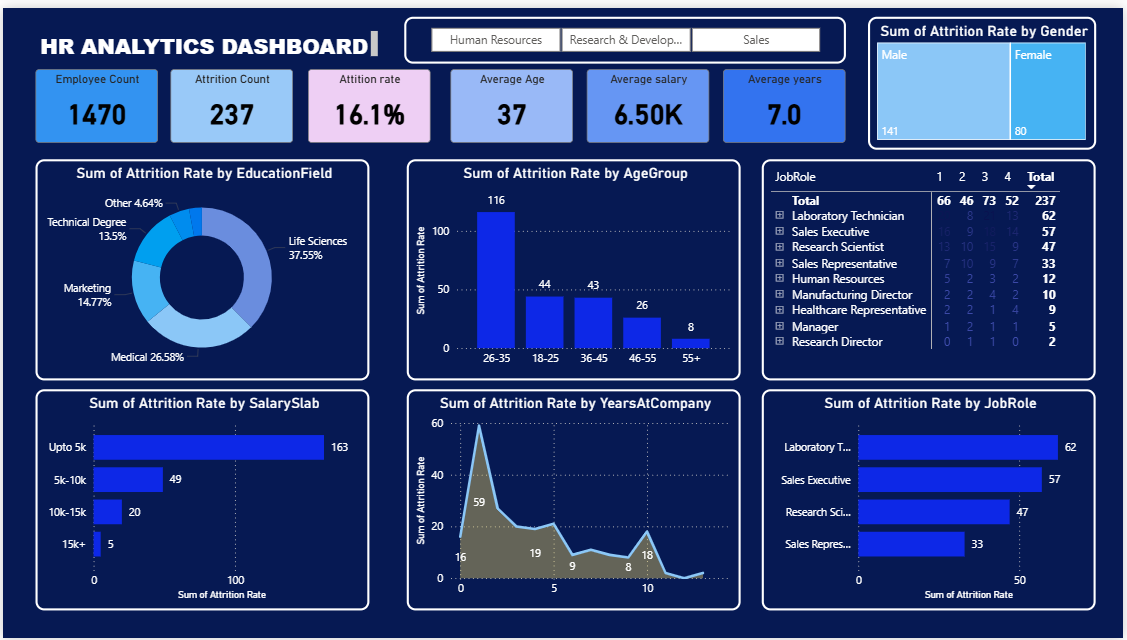

The page's visual inventory and layout, read from the dashboard file:
{"tool":"powerbi","page":{"name":"Page 1","canvas":[1280,720],"ordinal":0},"visuals":[{"type":"card","title":" Employee Count","fields":{"Values":["Count(HR_Analytics.EmpID)"]},"box":[37,70,140,83.7],"z":0},{"type":"card","title":"Attrition Count","fields":{"Values":["Sum(HR_Analytics.Attrition Rate)"]},"box":[190.7,70,140,83.7],"z":1000},{"type":"card","title":"Attition rate","fields":{"Values":["HR_Analytics.Attrition Percent"]},"box":[348.5,70,140,83.7],"z":2000},{"type":"card","title":"Average Age","fields":{"Values":["Avg(HR_Analytics.Age)"]},"box":[511.8,70,140,83.7],"z":3000},{"type":"card","title":"Average salary","fields":{"Values":["Avg(HR_Analytics.MonthlyIncome)"]},"box":[666.9,70,140,83.7],"z":4000},{"type":"card","title":"Average years","fields":{"Values":["Avg(HR_Analytics.YearsAtCompany)"]},"box":[823.3,70,140,83.7],"z":5000},{"type":"donutChart","fields":{"Category":["HR_Analytics.EducationField"],"Y":["Sum(HR_Analytics.Attrition Rate)"]},"box":[37,172.9,381.5,252.5],"z":6000},{"type":"clusteredColumnChart","fields":{"Category":["HR_Analytics.AgeGroup"],"Y":["Sum(HR_Analytics.Attrition Rate)"]},"box":[461.1,172.9,381.5,252.5],"z":7000},{"type":"pivotTable","fields":{"Rows":["HR_Analytics.JobRole","HR_Analytics.EducationField"],"Values":["Sum(HR_Analytics.Attrition Rate)"],"Columns":["HR_Analytics.JobSatisfaction"]},"box":[867.2,172.9,381.5,252.5],"z":8000},{"type":"barChart","fields":{"Category":["HR_Analytics.SalarySlab"],"Y":["Sum(HR_Analytics.Attrition Rate)"]},"box":[37,436.4,381.5,252.5],"z":9000},{"type":"stackedAreaChart","fields":{"Category":["HR_Analytics.YearsAtCompany"],"Y":["Sum(HR_Analytics.Attrition Rate)"]},"box":[461.1,436.4,381.5,252.5],"z":10000},{"type":"barChart","fields":{"Y":["Sum(HR_Analytics.Attrition Rate)"],"Category":["HR_Analytics.JobRole"]},"box":[867.2,436.4,381.5,252.5],"z":11000},{"type":"treemap","fields":{"Group":["HR_Analytics.Gender"],"Values":["Sum(HR_Analytics.Attrition Rate)"]},"box":[988,9.6,260.7,152.3],"z":12000},{"type":"slicer","fields":{"Values":["HR_Analytics.Department"]},"box":[458.3,9.6,505,53.5],"z":13000},{"type":"textbox","box":[37,22,396.6,41.2],"z":14000}]}

Visuals, with their boxes in screenshot pixels (x1, y1, x2, y2), scaled from the page's 1280x720 canvas onto the 1127x640 screenshot:
" Employee Count" card: locate(33, 62, 156, 137)
"Attrition Count" card: locate(168, 62, 291, 137)
"Attition rate" card: locate(307, 62, 430, 137)
"Average Age" card: locate(451, 62, 574, 137)
"Average salary" card: locate(587, 62, 710, 137)
"Average years" card: locate(725, 62, 848, 137)
donutChart - HR_Analytics.EducationField x Sum(HR_Analytics.Attrition Rate): locate(33, 154, 368, 378)
clusteredColumnChart - HR_Analytics.AgeGroup x Sum(HR_Analytics.Attrition Rate): locate(406, 154, 742, 378)
pivotTable - HR_Analytics.JobRole x HR_Analytics.EducationField: locate(764, 154, 1099, 378)
barChart - HR_Analytics.SalarySlab x Sum(HR_Analytics.Attrition Rate): locate(33, 388, 368, 612)
stackedAreaChart - HR_Analytics.YearsAtCompany x Sum(HR_Analytics.Attrition Rate): locate(406, 388, 742, 612)
barChart - Sum(HR_Analytics.Attrition Rate) x HR_Analytics.JobRole: locate(764, 388, 1099, 612)
treemap - HR_Analytics.Gender x Sum(HR_Analytics.Attrition Rate): locate(870, 9, 1099, 144)
slicer - HR_Analytics.Department: locate(404, 9, 848, 56)
textbox: locate(33, 20, 382, 56)
